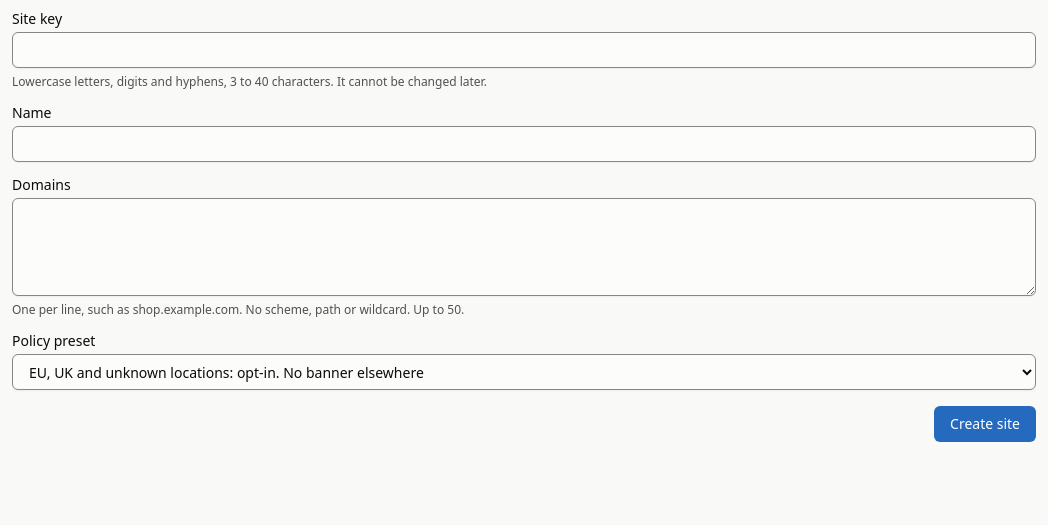
Test: server validation issues land on their own fields, nested paths included
Type "shop" into the field labelled "Site key" at (524, 50), box [12,32,1036,68]
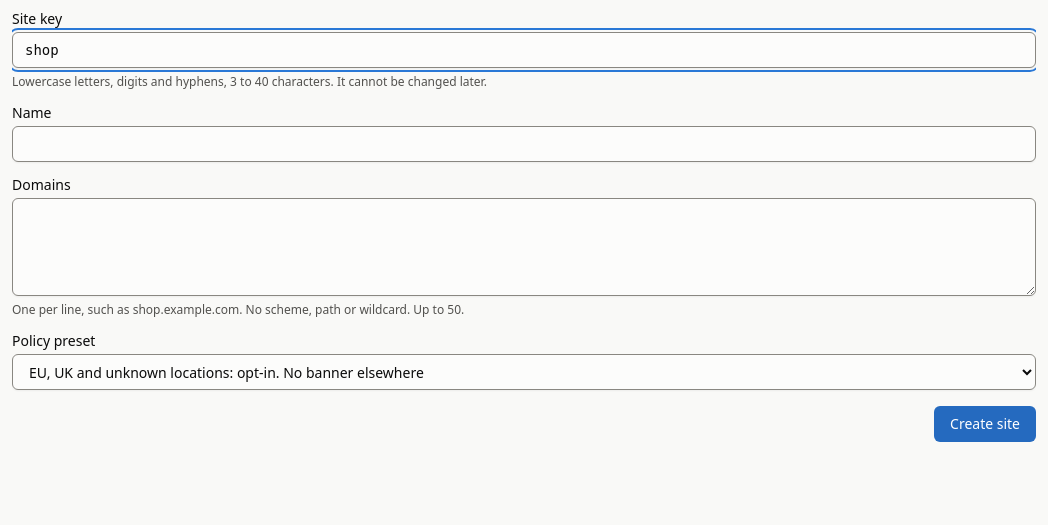
Type "Shop" into the field labelled "Name" at (524, 144), box [12,126,1036,162]
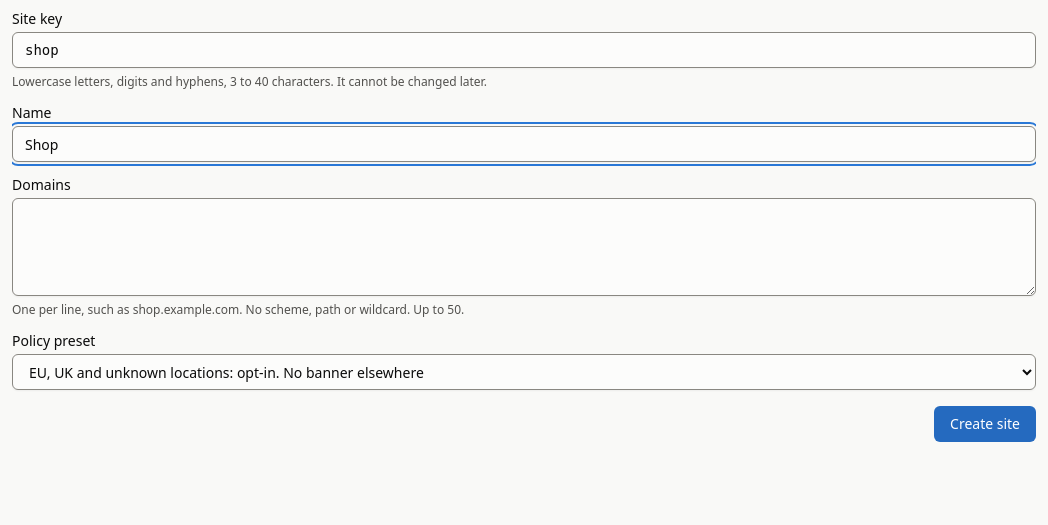
Type "shop.example.com" into the text box labelled "Domains" at (524, 247), box [12,198,1036,296]
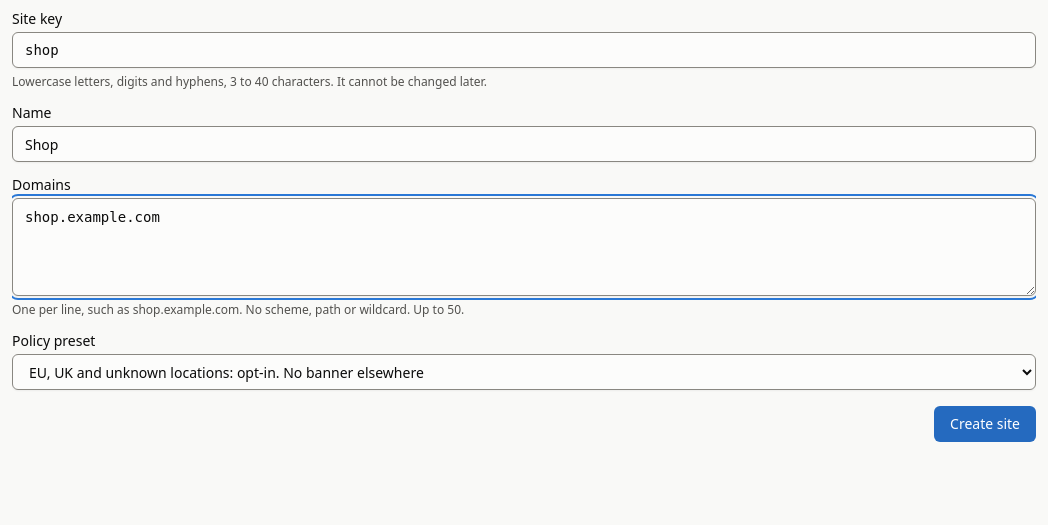
Click the button "Create site" at (985, 424), box [934,406,1036,442]
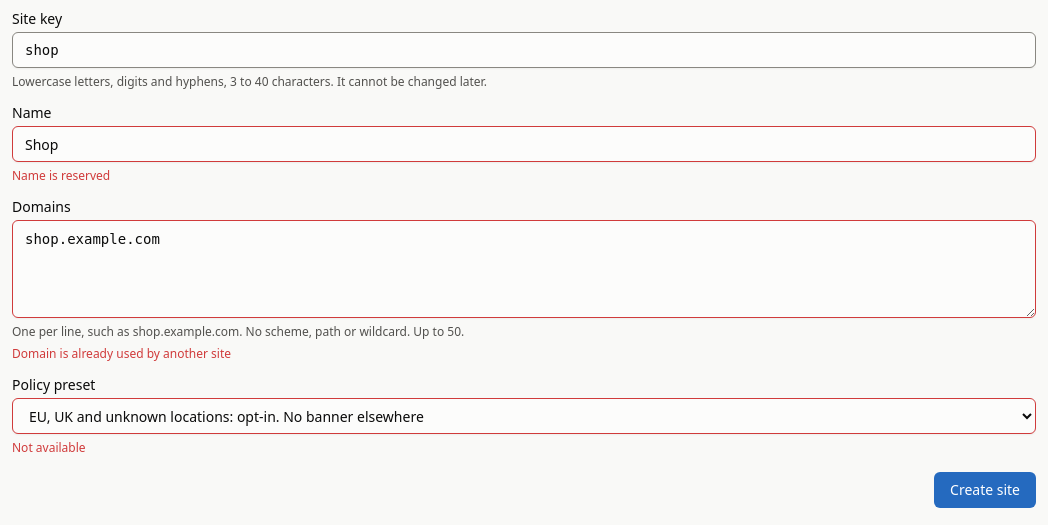
Now the text "Domain is already used by another site" is shown, box [12,345,231,362]
Now the text "Name is reserved" is shown, box [12,167,110,184]
Now the text "Not available" is shown, box [12,439,86,456]
